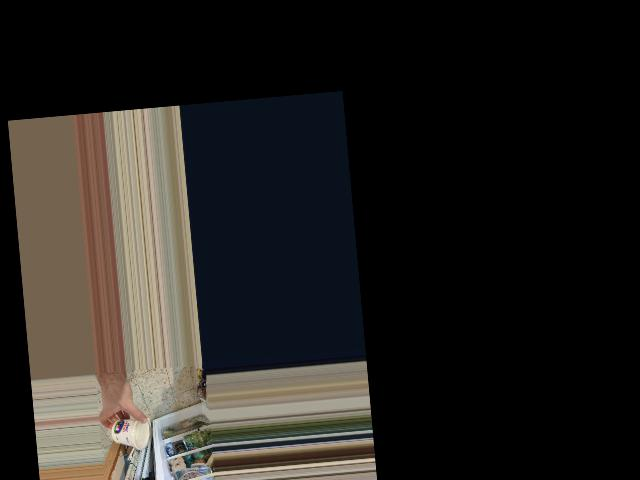cotage: (109, 414, 149, 450)
